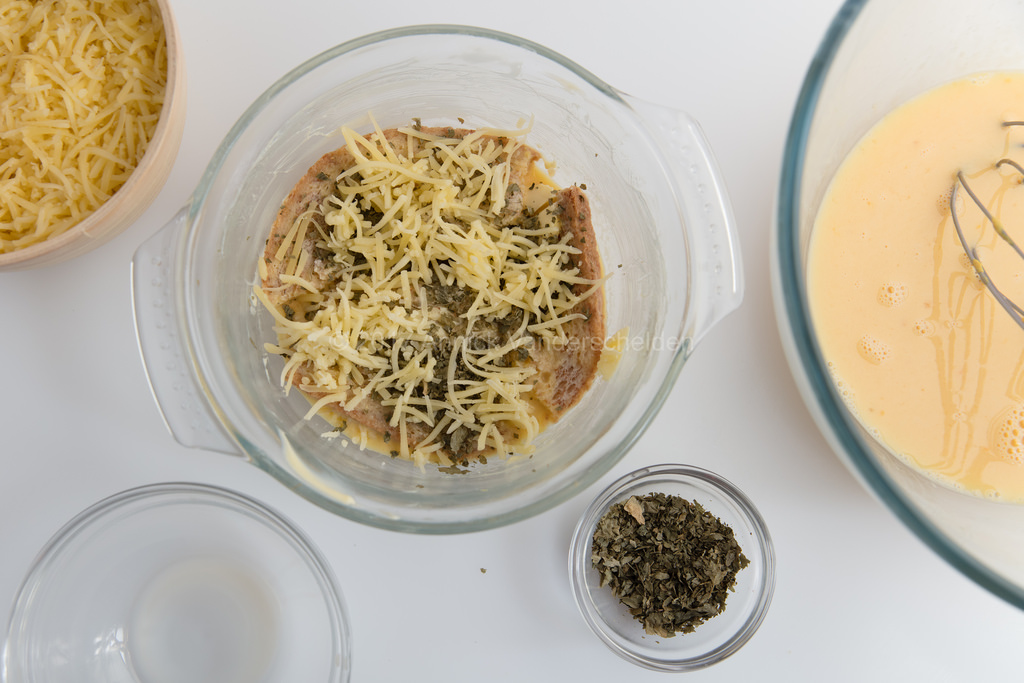glass of water: (50, 520, 343, 683)
plain spaghetti: (324, 177, 568, 461)
